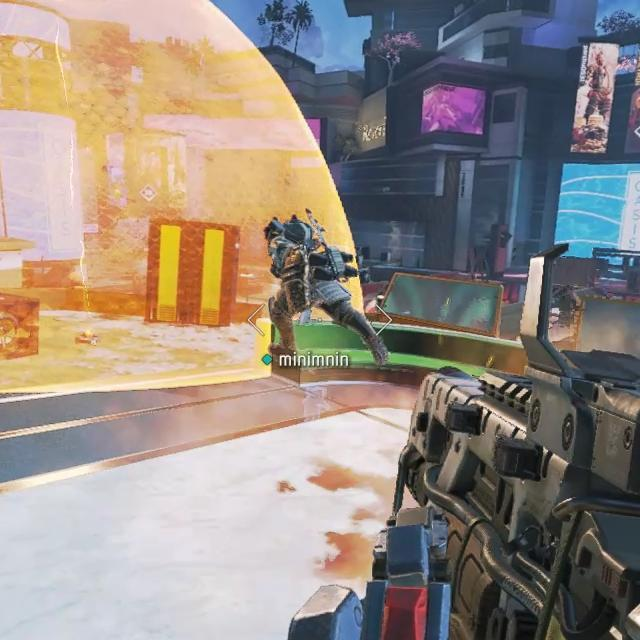avatar: (261, 213, 353, 358)
